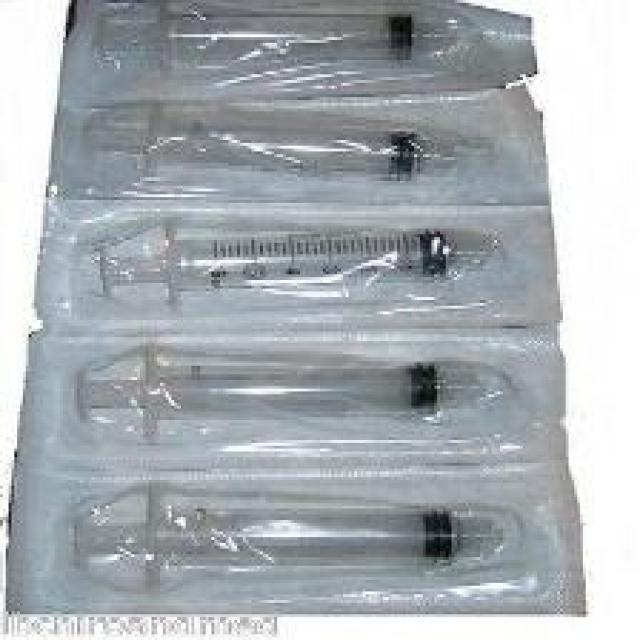syringe: (76, 441, 506, 598), (86, 324, 504, 449), (104, 2, 487, 120), (78, 98, 472, 196), (103, 213, 499, 305)
